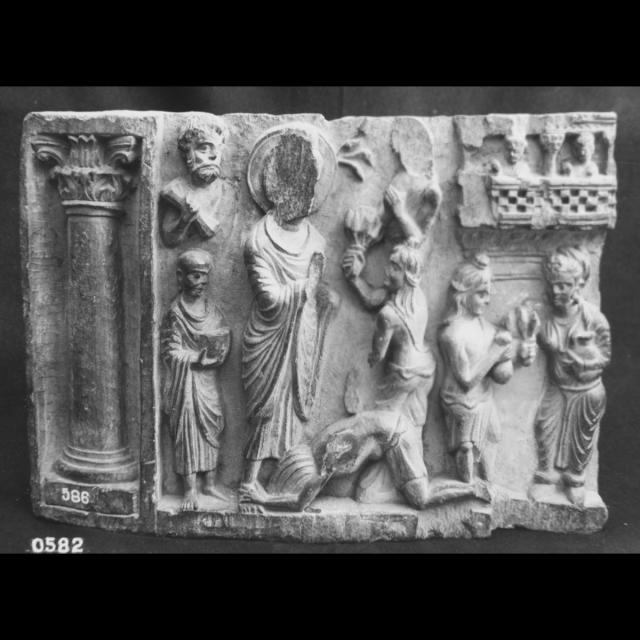buddha-standing: (244, 119, 350, 506)
